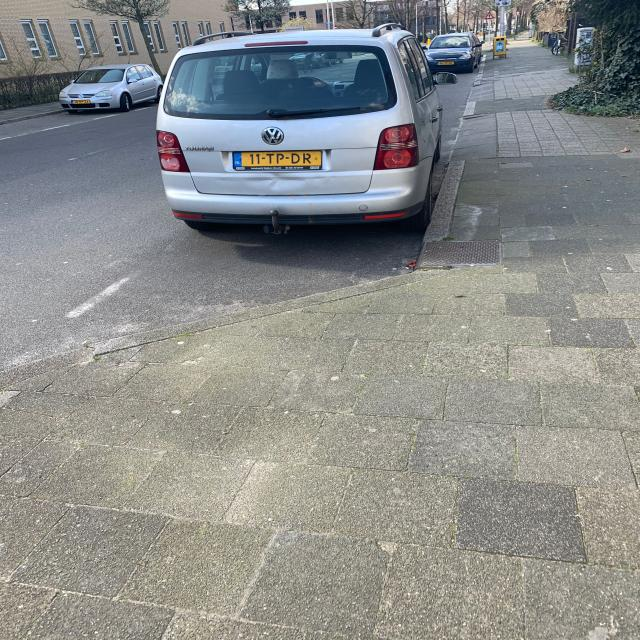plate: (231, 149, 323, 170)
